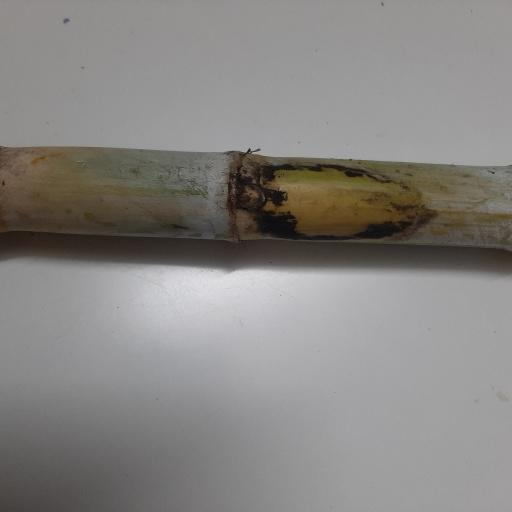Bud: (235, 183, 265, 210)
